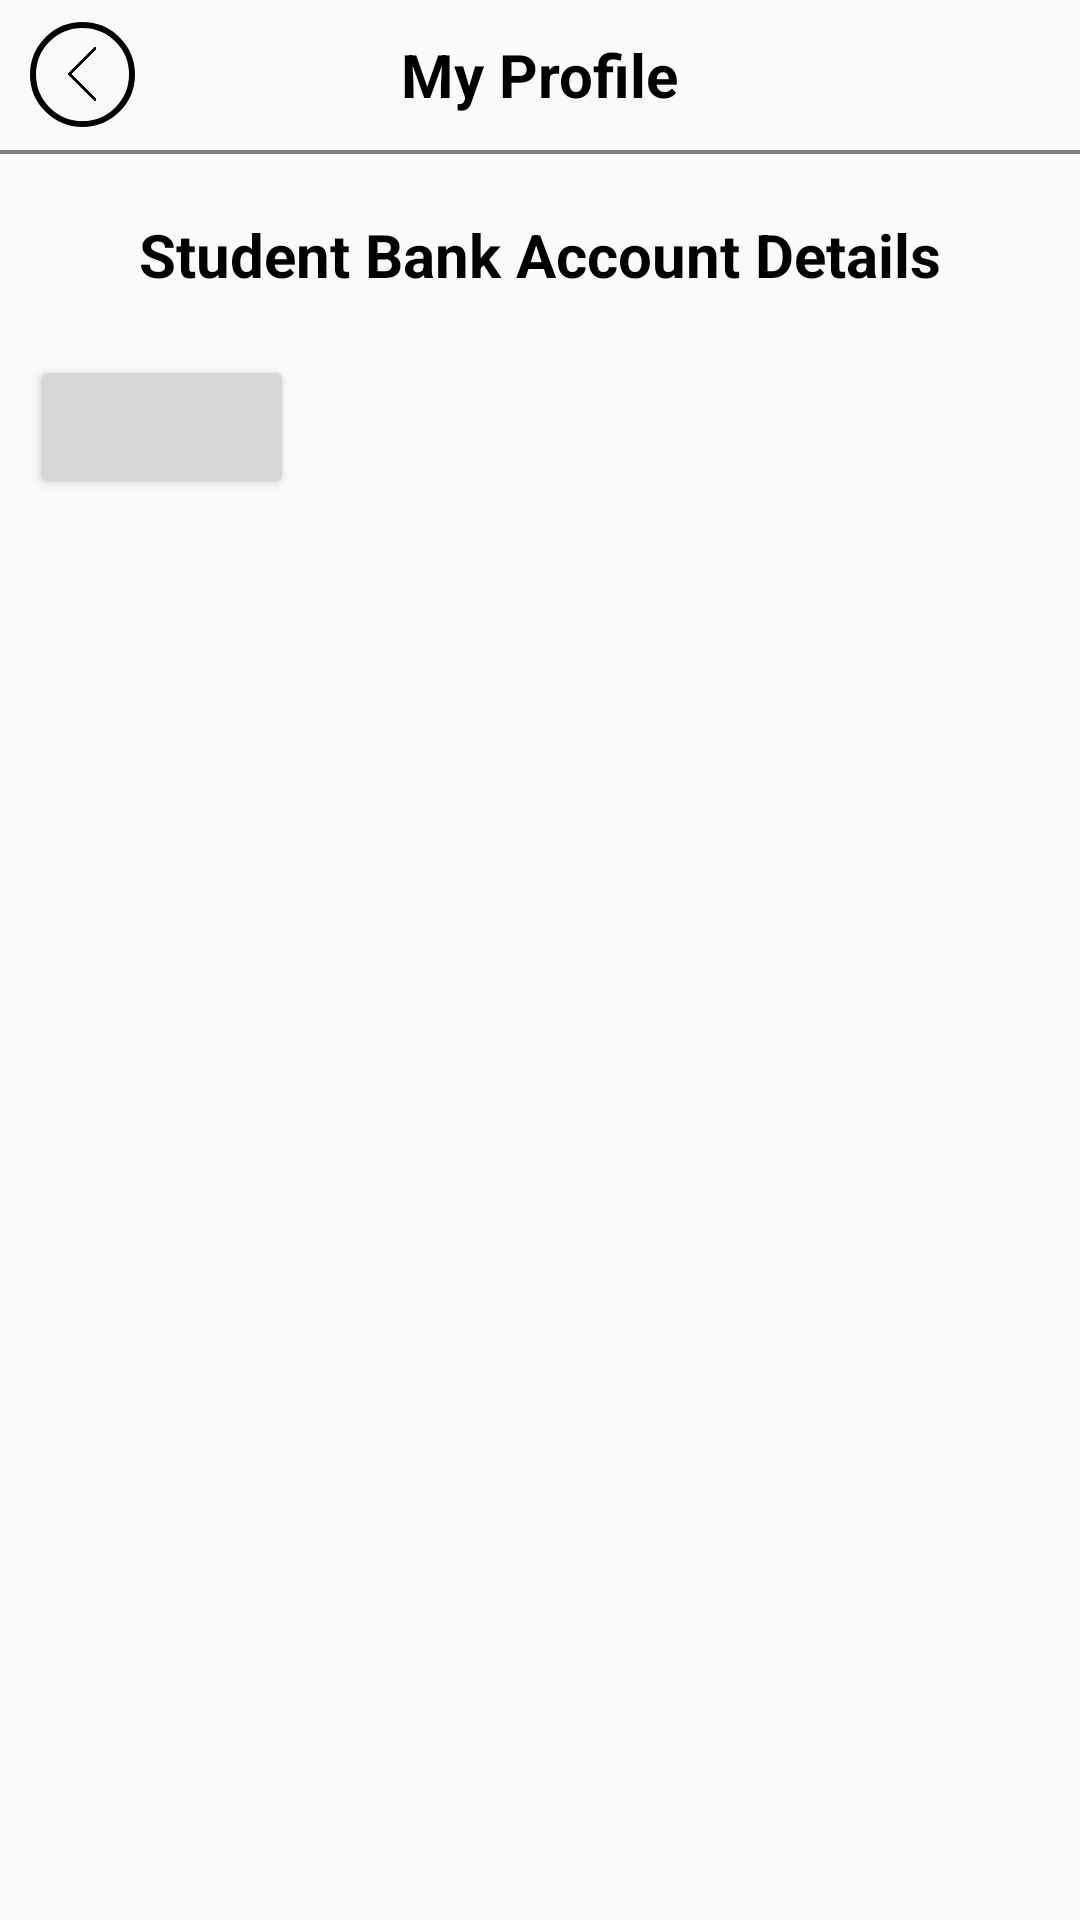

Icons on this 1080px×1920px Android screen, each with its box as BBox(x1, y1, x2, y2):
back: BBox(68, 47, 96, 101)
